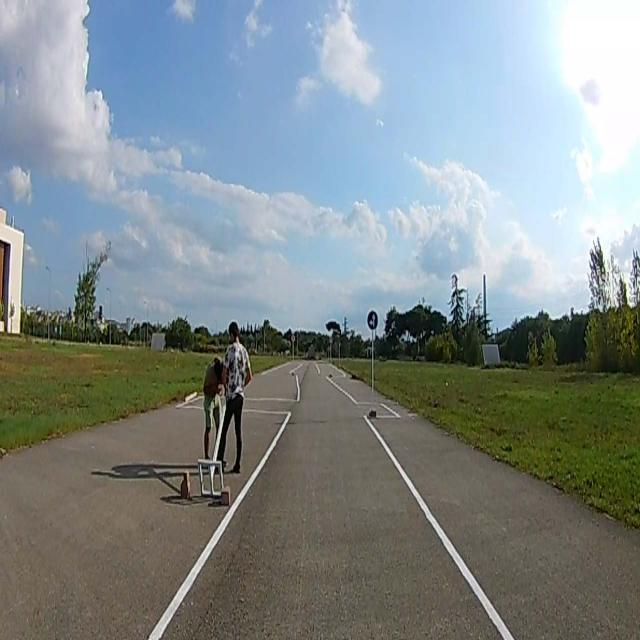ilerisol: (367, 310, 378, 330)
